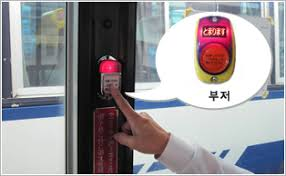bell: (98, 58, 123, 99)
